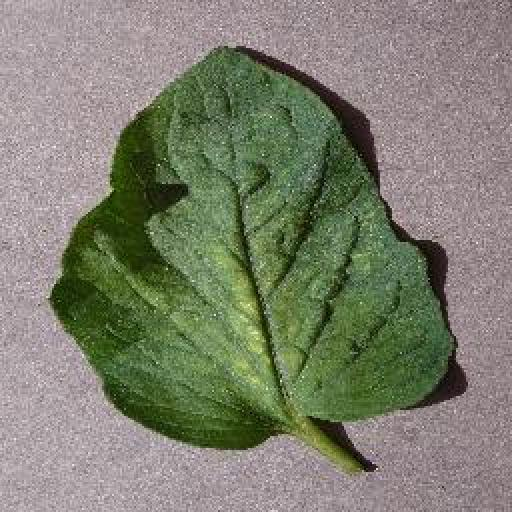Spider Mites: (50, 43, 458, 453)
